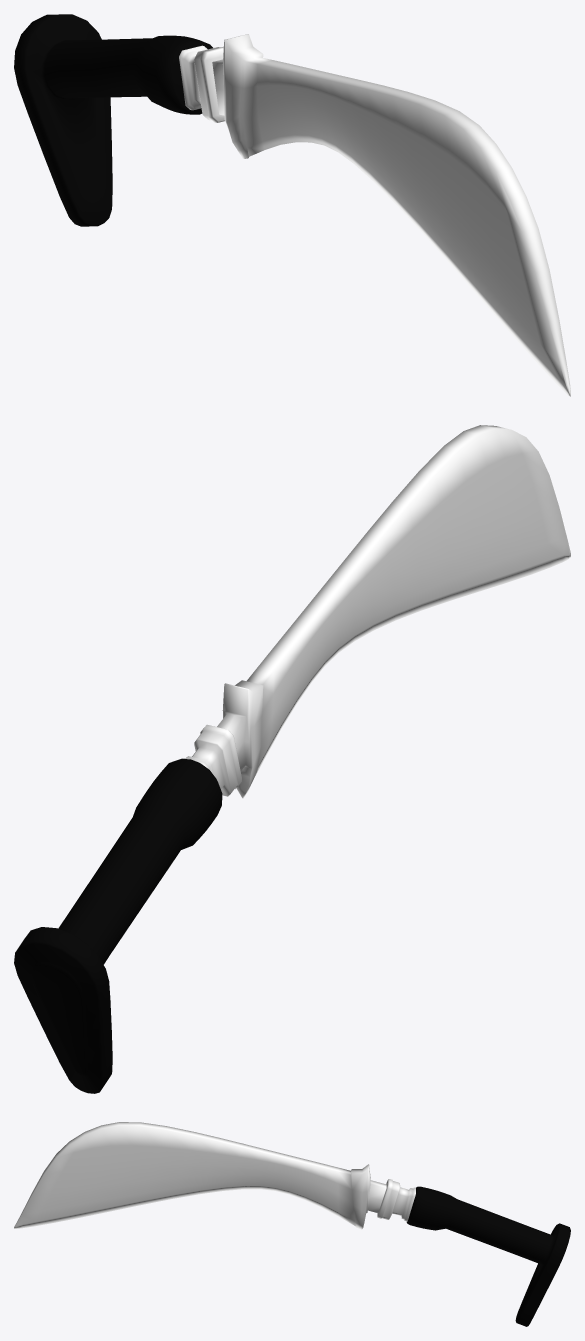
File: sowrd1.glb
3 views of the same model, one above another, from view 1: azimuth 30°, elevation 25°; view 2: azimuth 150°, elevation 25°; view 3: azimuth 270°, elevation 25° (orthographic). The views are drawn at different scales.
Parts seen in each view (by area): view 1: knife1_low_Cube; view 2: knife1_low_Cube; view 3: knife1_low_Cube.
Boxes of the visible parts, x1,y1,x2,y2 form: knife1_low_Cube: (14,14,570,396); knife1_low_Cube: (14,425,570,1093); knife1_low_Cube: (14,1122,570,1326).
Bounding box in the file's own units: 0.0697 × 0.3074 × 0.7694.
1 material, 1 textured.
